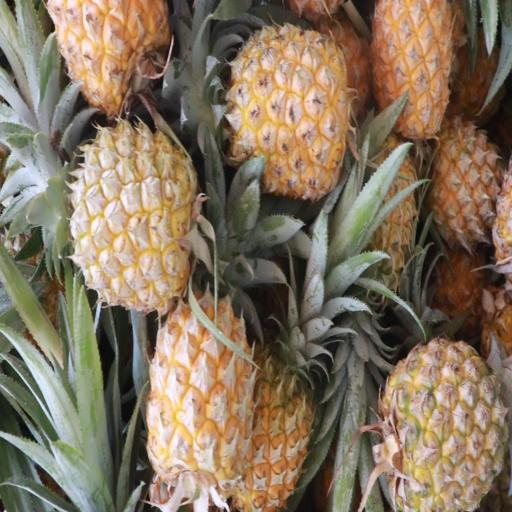------------------------------: (371, 328, 512, 512)
Pineapple - v8 v1: (143, 270, 254, 512), (57, 123, 198, 312), (221, 245, 319, 512), (207, 28, 350, 197), (422, 117, 504, 260), (367, 0, 453, 131)
